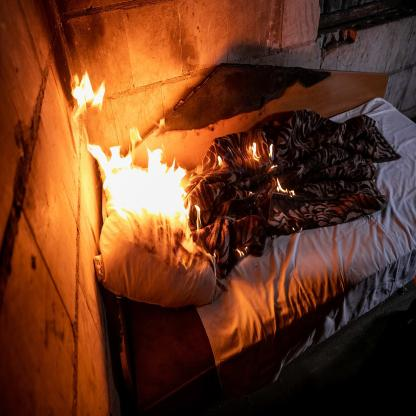fire: (68, 64, 190, 229)
